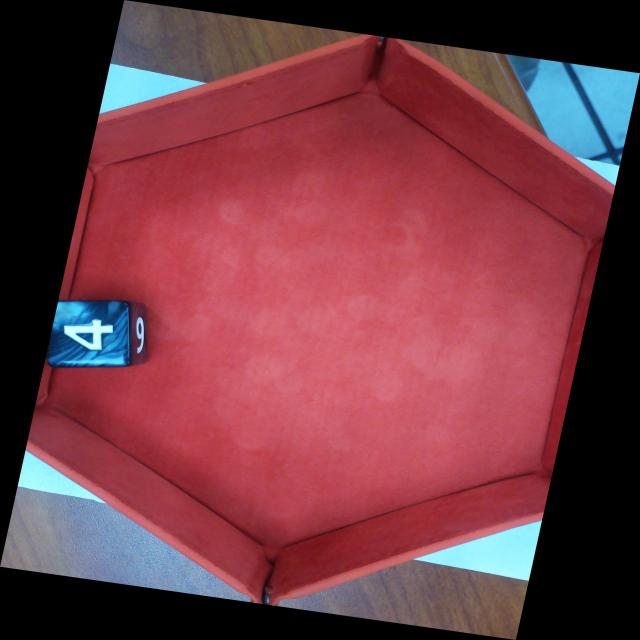dice: (48, 299, 132, 368)
